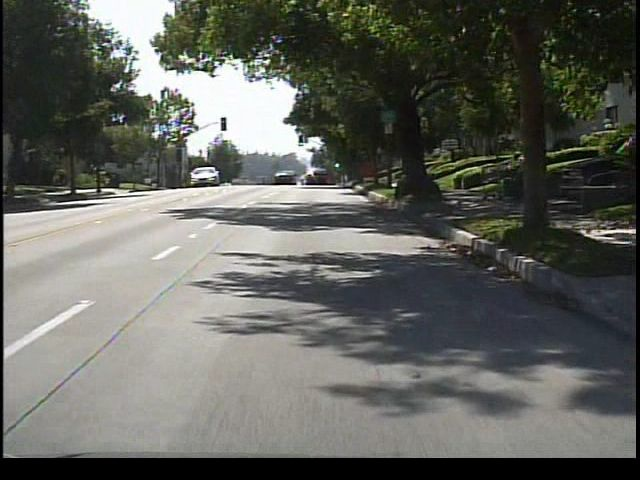person: (508, 147, 536, 202)
